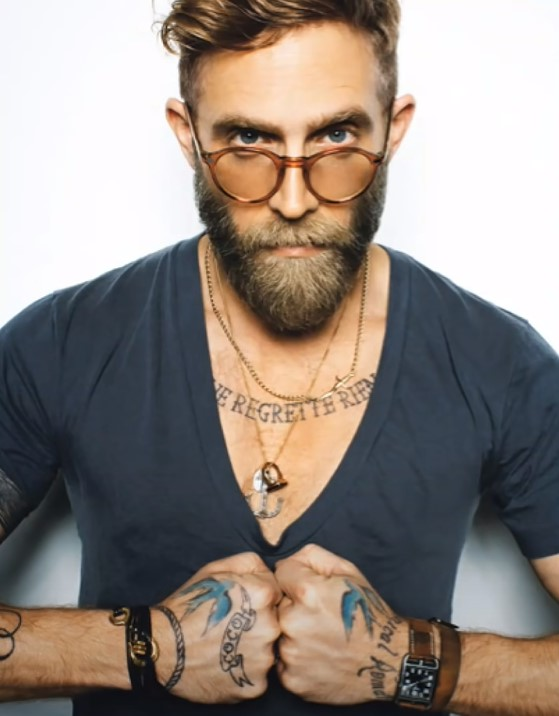face_no_mask: (178, 12, 410, 317)
